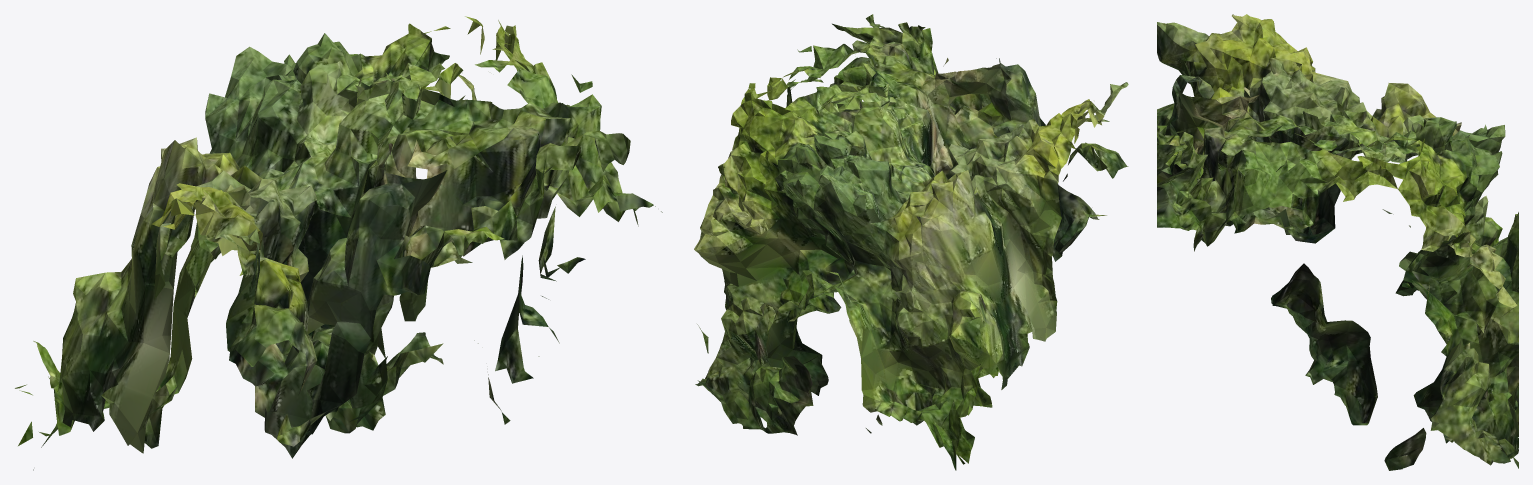
The picture shows the model from 3 angles, left to right: view 1: azimuth 30°, elevation 25°; view 2: azimuth 150°, elevation 25°; view 3: azimuth 270°, elevation 25°; orthographic projection. The views are drawn at different scales.
Size of the model in its own units: 26.11 by 26.11 by 26.11.
8 materials, 8 textured.
